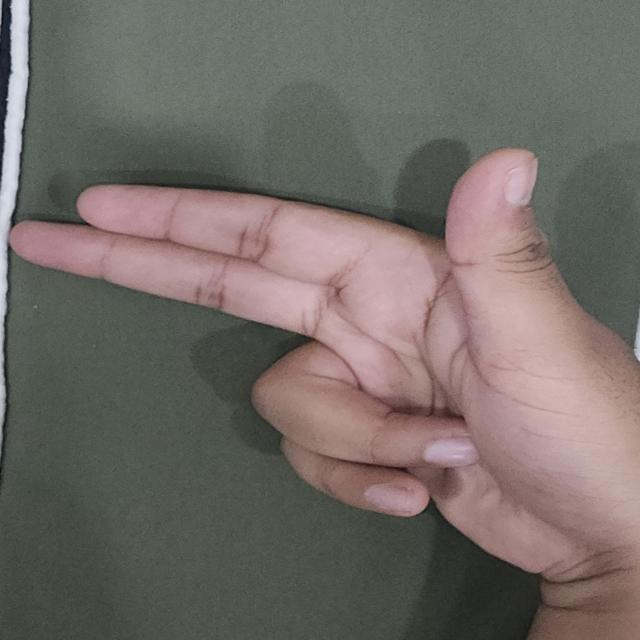ج: (3, 125, 640, 631)
